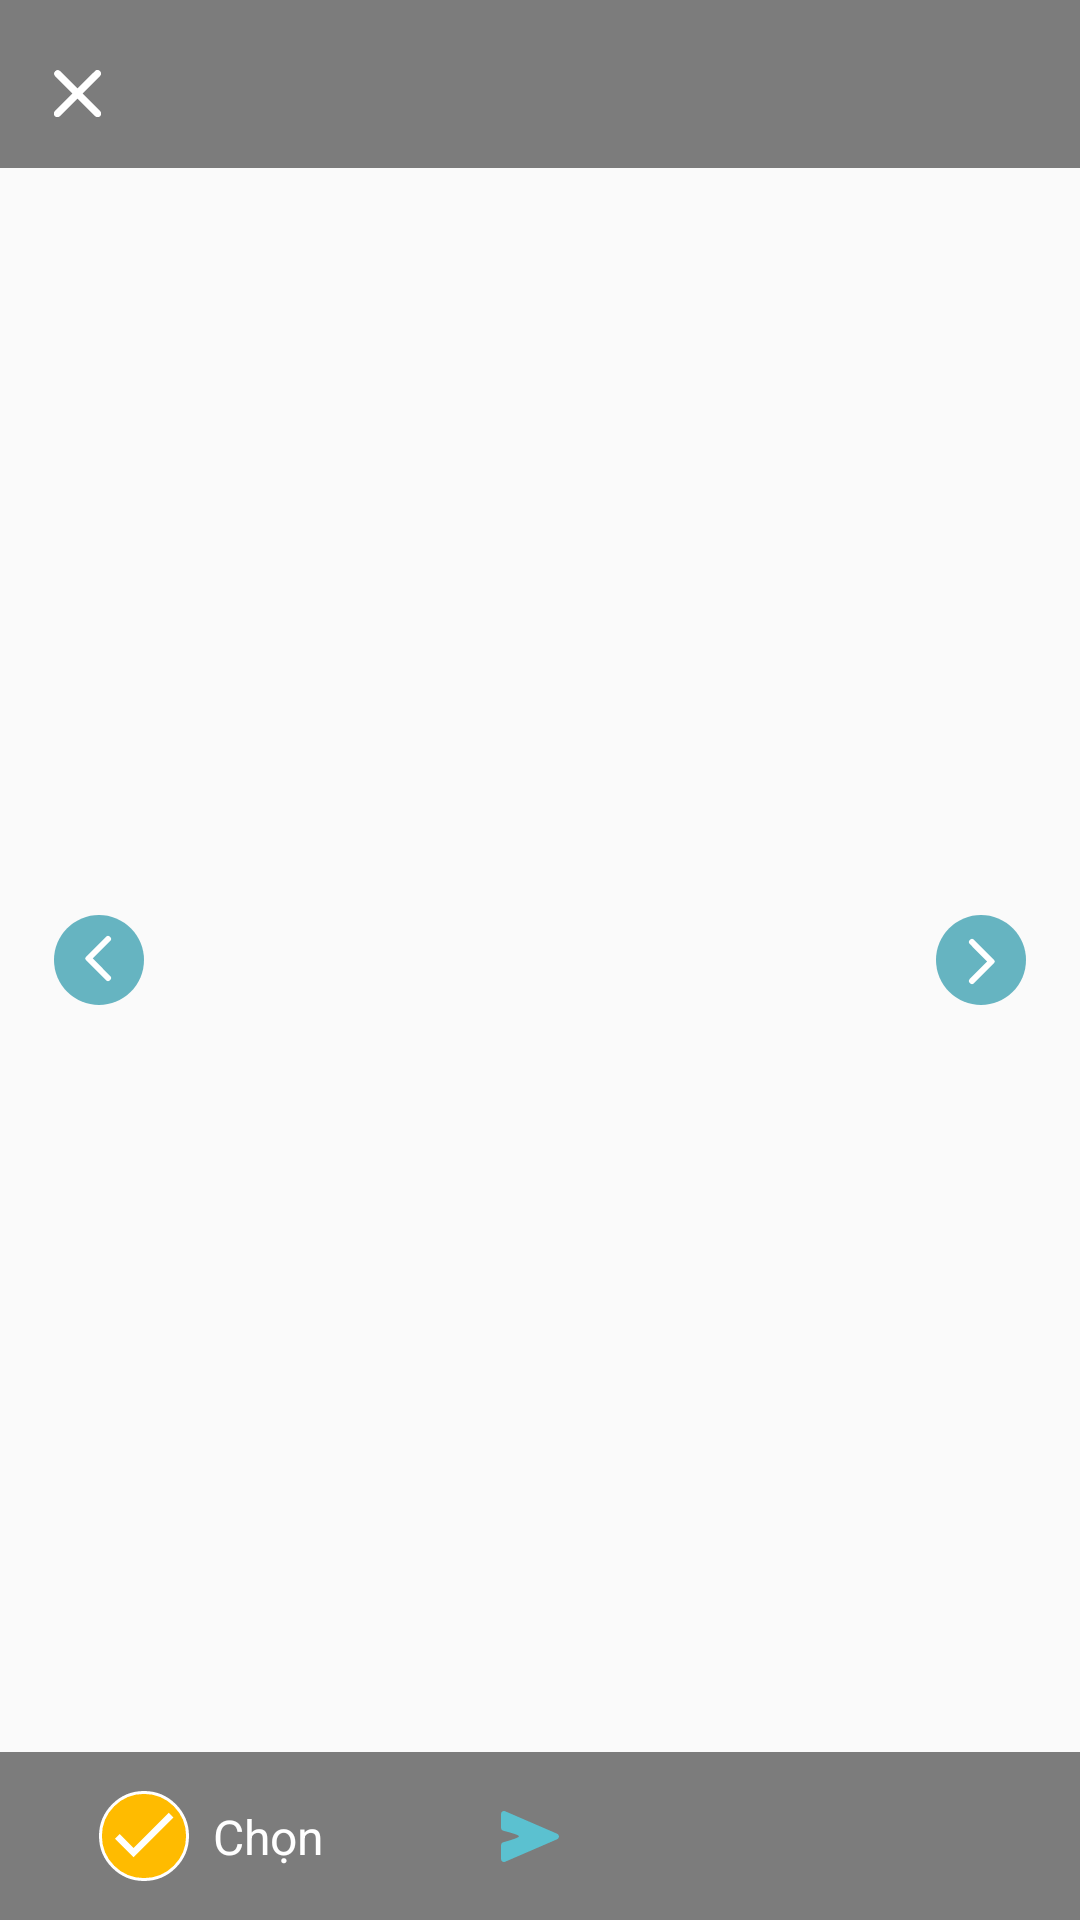

Screen size 1080px×1920px. Icon name, then its center in pixels as (x,y):
back detail: (99,960)
close: (77,93)
next: (981,960)
pick detail: (144,1836)
sendphoto collapse: (530,1836)
